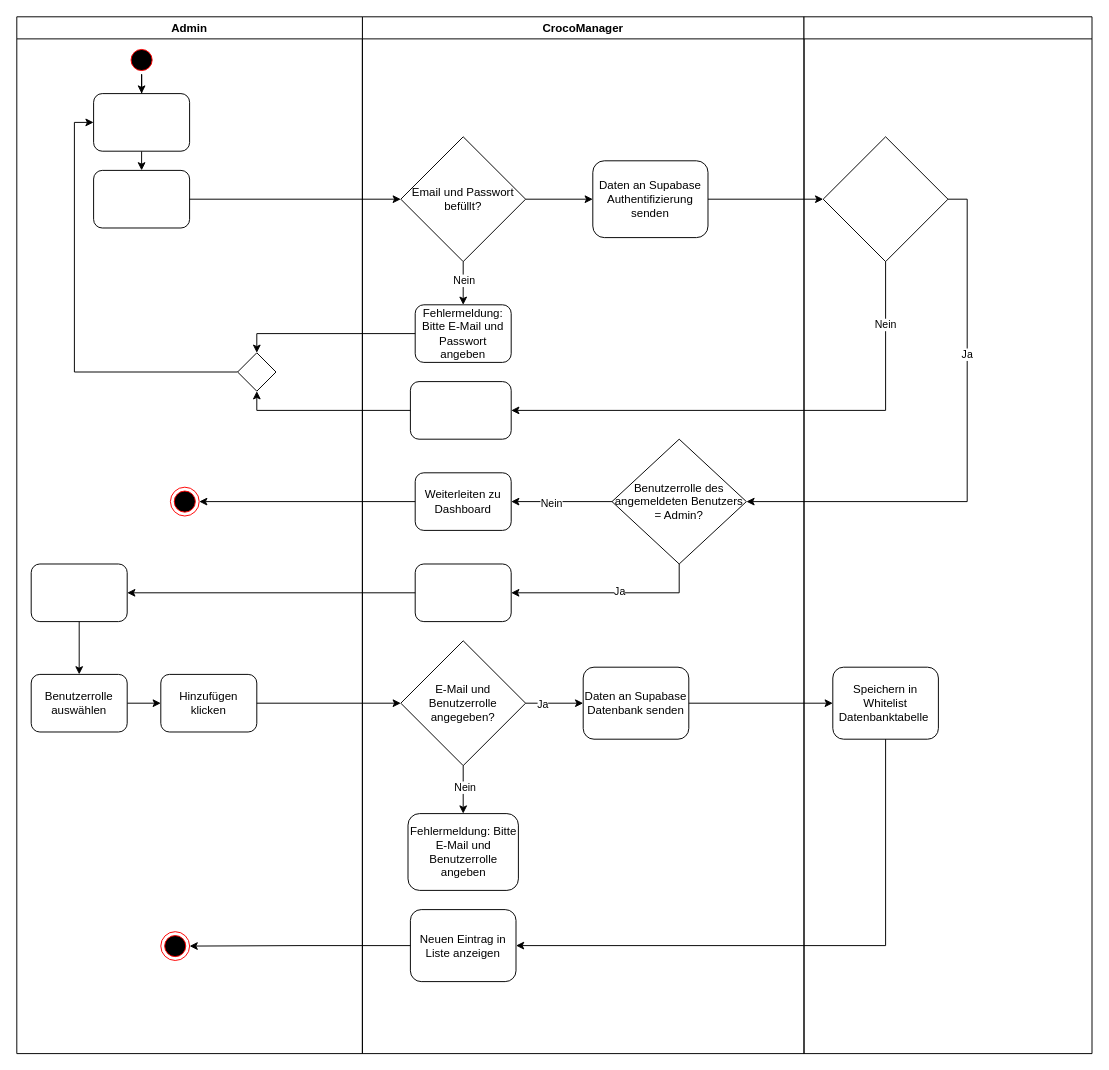
The diagram is 1109 pixels wide and 1070 high, and some of its shapes have lost their labels. Each missing label, with the box of its shape:
E-Mail Adresse angeben: (30, 563, 127, 622)
Eingabe E-Mail und Passwort: (93, 93, 190, 151)
Email und Passwort korrekt?: (822, 136, 948, 262)
Fehlermeldung: Logindaten nicht korrekt: (409, 381, 511, 439)
Klicken von Anmeldebutton: (93, 169, 190, 228)
Supabase: (803, 16, 1092, 1054)
Öffnen der Whitelist: (414, 563, 511, 622)
